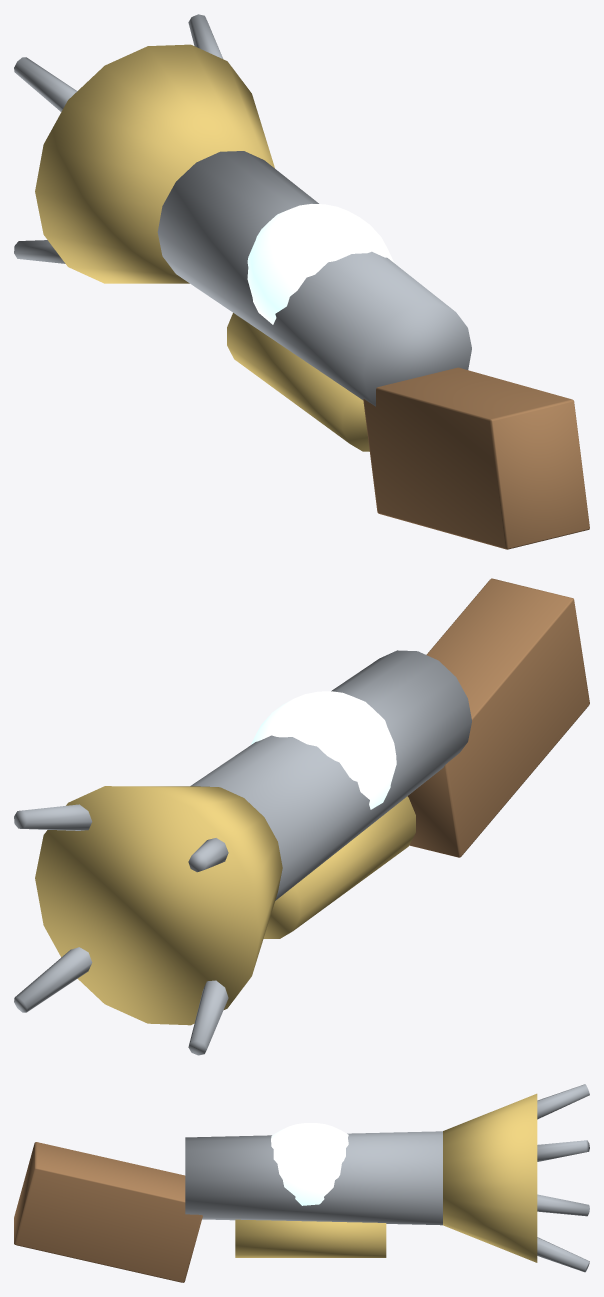
File: SM_NetLauncherGun.fbx
The picture shows the model from 3 angles, top to bottom: view 1: azimuth 30°, elevation 25°; view 2: azimuth 150°, elevation 25°; view 3: azimuth 270°, elevation 25°; orthographic projection. The views are drawn at different scales.
Parts seen in each view (by area): view 1: SM_NetLauncherGun; view 2: SM_NetLauncherGun; view 3: SM_NetLauncherGun.
Part boxes in pixels (bbox=[...]): SM_NetLauncherGun: bbox=[14, 14, 589, 549]; SM_NetLauncherGun: bbox=[14, 578, 589, 1055]; SM_NetLauncherGun: bbox=[14, 1084, 589, 1282].
Size of the model in its own units: 0.27 by 0.2959 by 0.9162.
